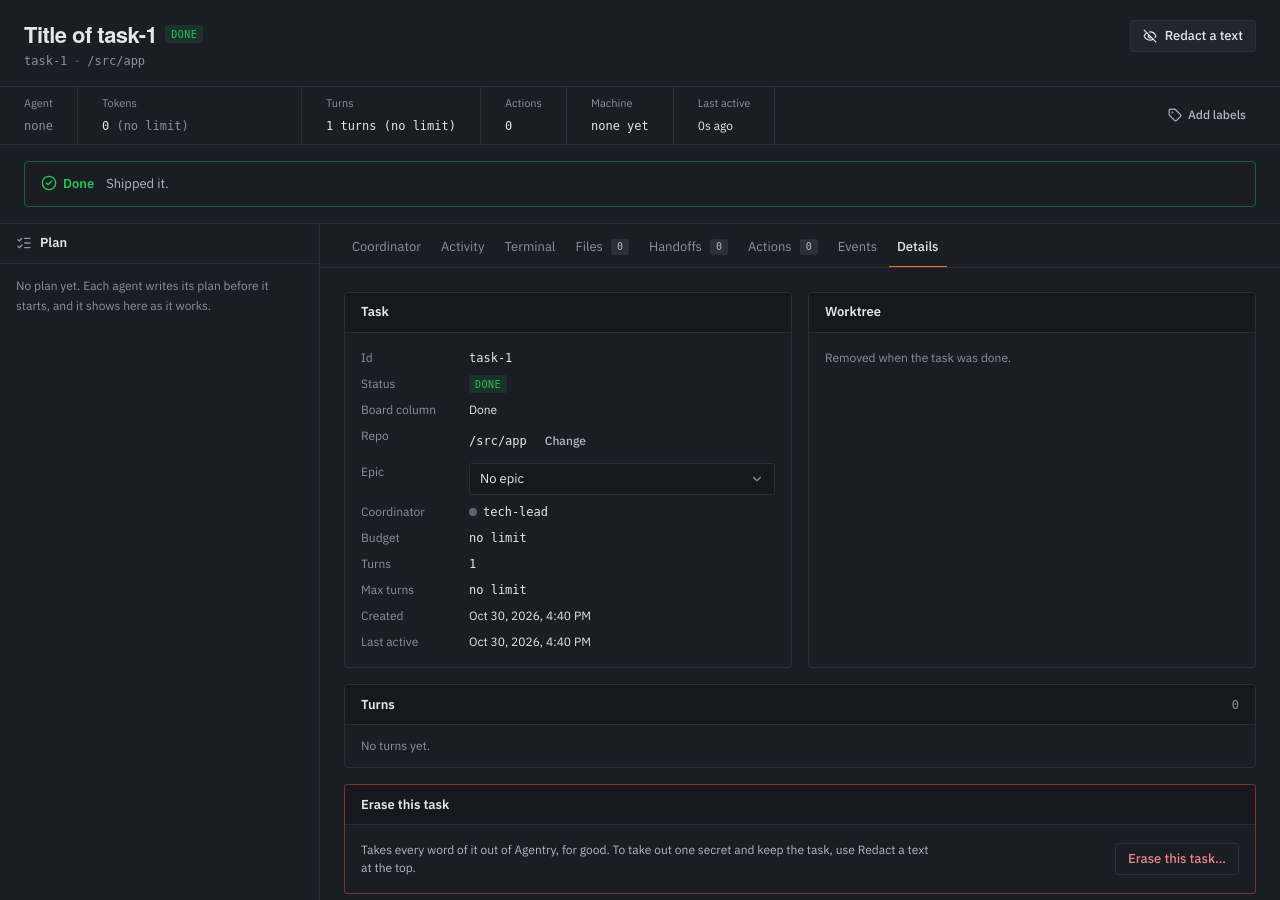
TaskPage erasing the task › asks first, saying nothing undoes it and what goes, and erases nothing until you say so
The image size is (1280, 900).
Click the button "Erase this task…": click(1177, 859) top-left (1115, 843), bottom-right (1239, 875)
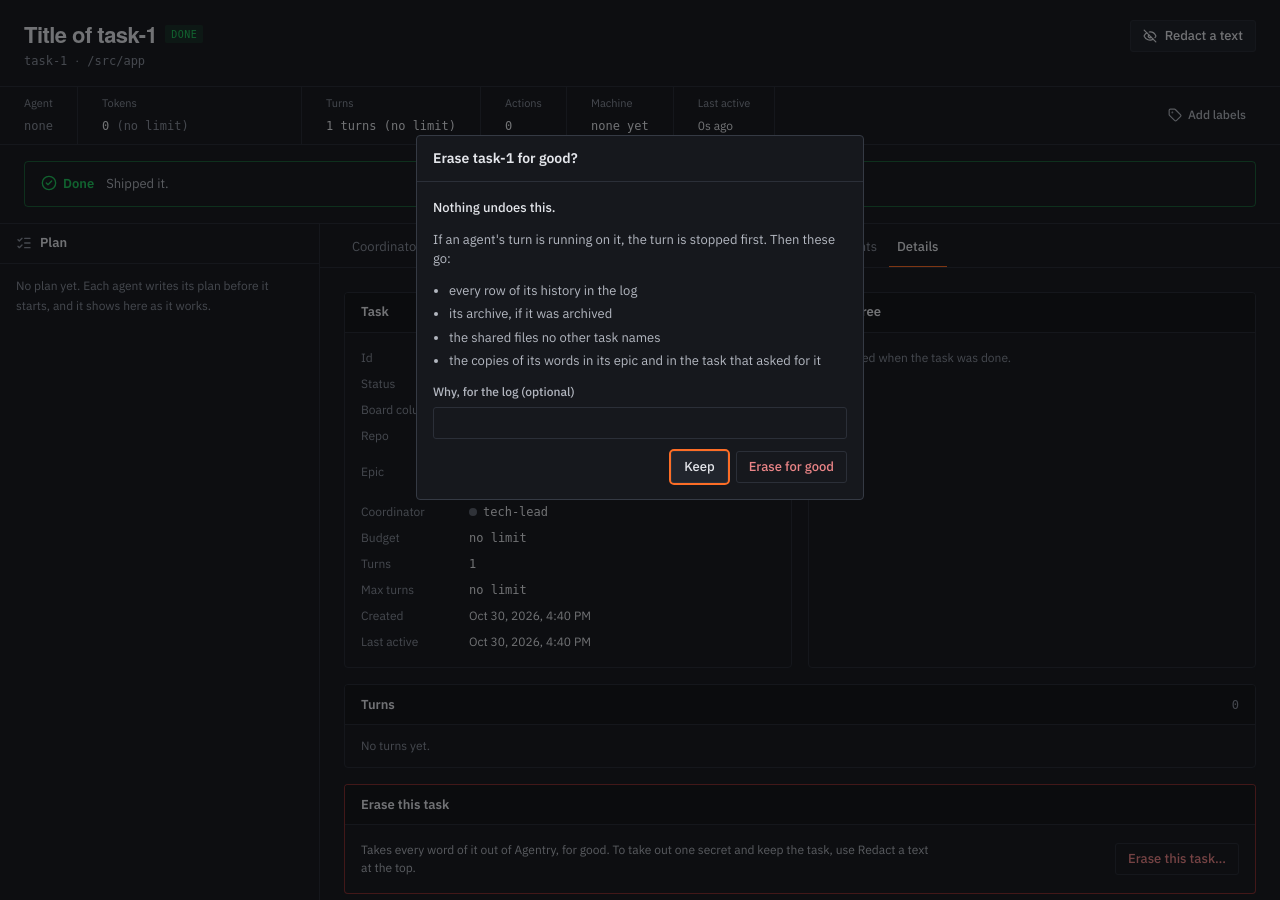
Now the dialog "Erase task-1 for good?" shows "Nothing undoes this.", box top-left (433, 199), bottom-right (556, 216)
Now the dialog "Erase task-1 for good?" shows "the turn is stopped first", box top-left (433, 230), bottom-right (835, 267)
Now the dialog "Erase task-1 for good?" shows "its archive", box top-left (449, 305), bottom-right (612, 322)
Click the button "Keep": click(699, 466) top-left (671, 450), bottom-right (728, 482)
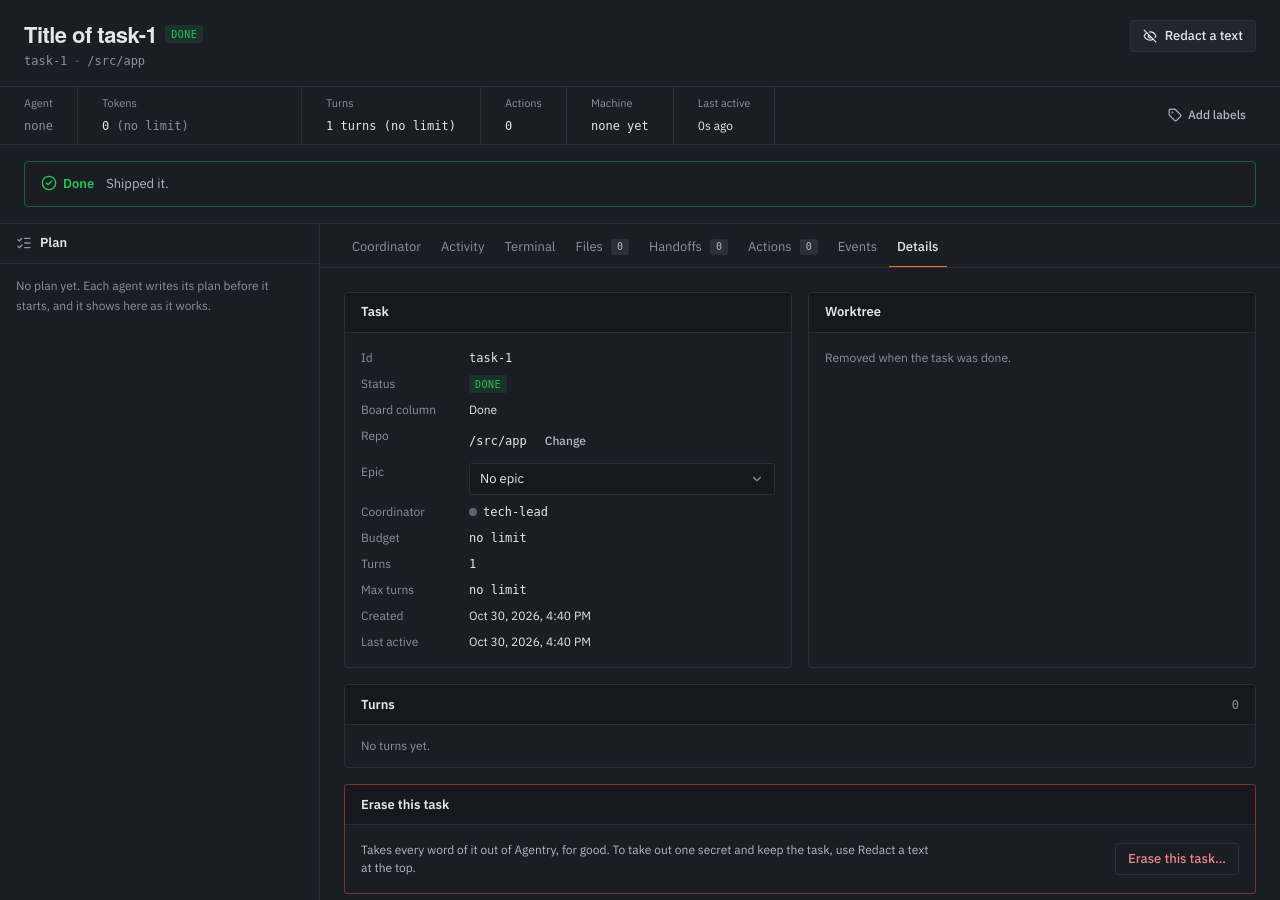
Now the dialog is gone
